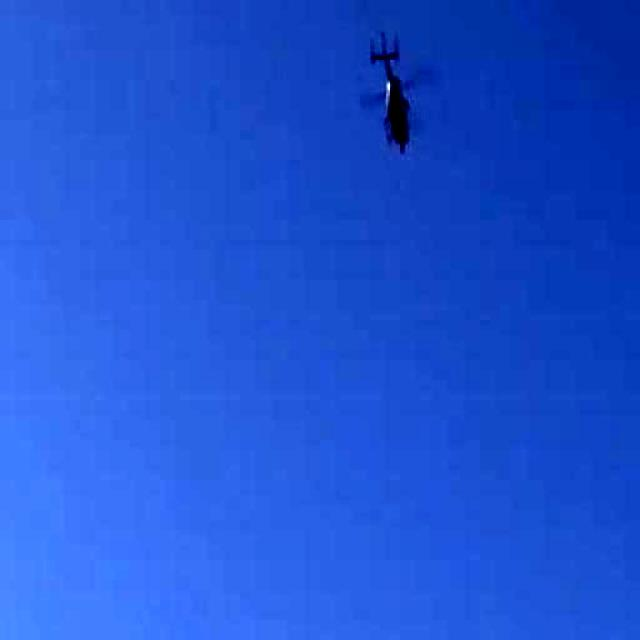drone: (344, 16, 450, 172)
